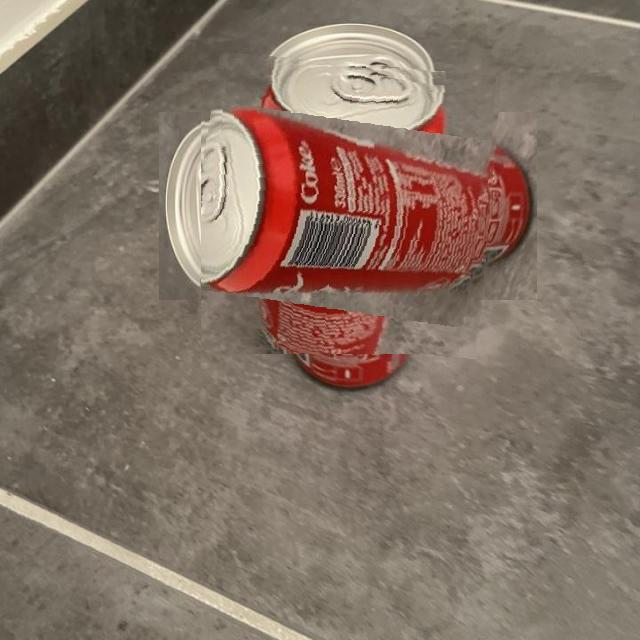recyclable: (201, 58, 496, 354)
